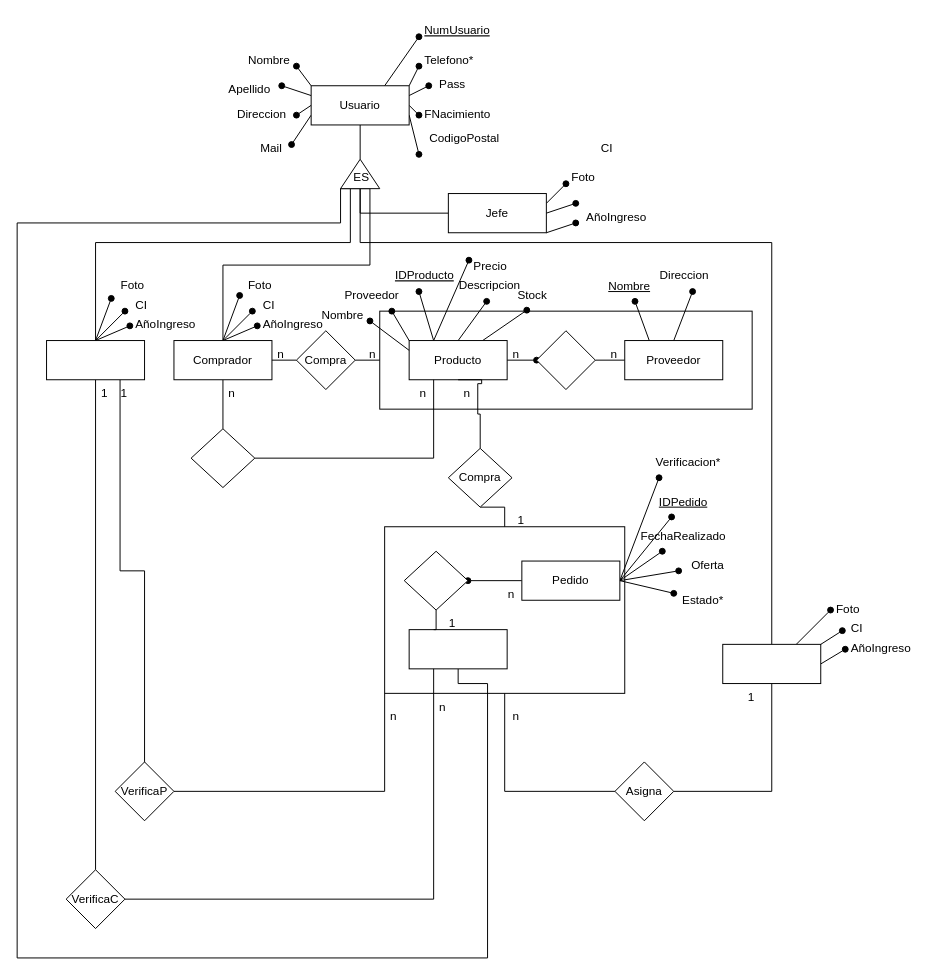
Some shapes in this 951 by 976 pixel diagram are drawn without their labels. Here are the shapes that lost their labels. From the top down, the centre of each, then its label:
At point 95,360: "Vendedor".
At point 565,360: "Provee".
At point 222,458: "GestionaPr".
At point 435,580: "Realiza".
At point 457,649: "Cliente".
At point 771,663: "Repartidor".
